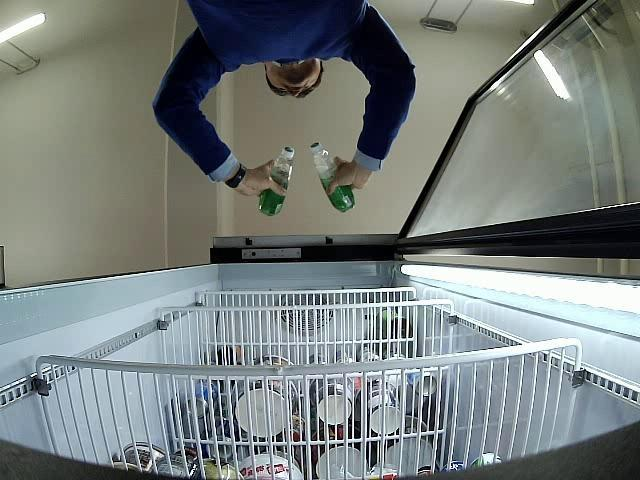18_trevi: (308, 142, 354, 213), (258, 147, 294, 217)
